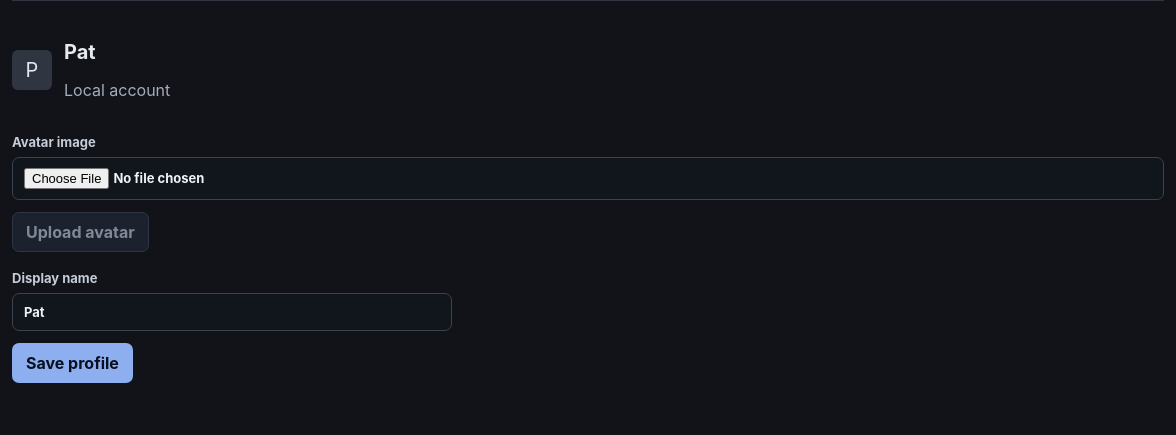
it: shows a rejected save without discarding the draft
This screenshot has width=1176, height=435.
Replace the text in the field labelled "Display name" with "Pending name" at (232, 312), box [12,293,452,331]
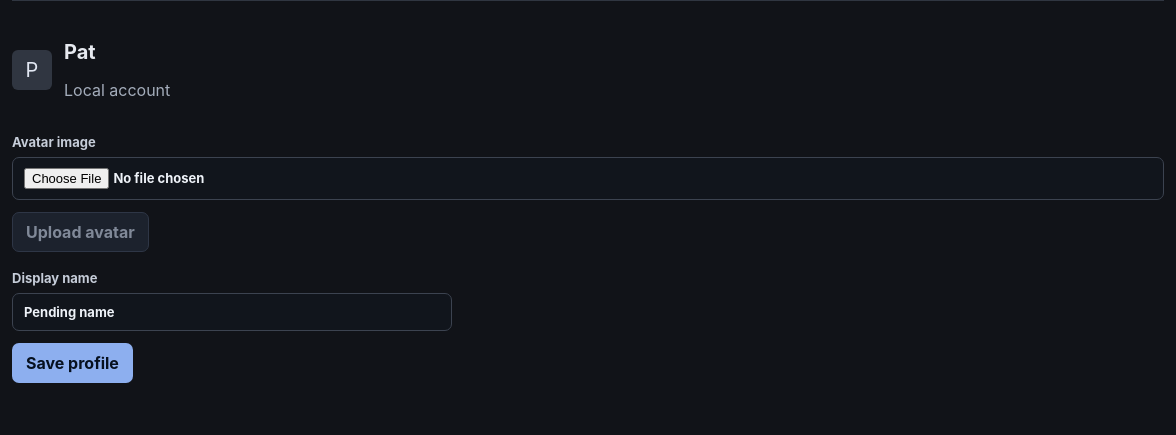
Click the button "Save profile" at (72, 363), box [12,343,133,383]
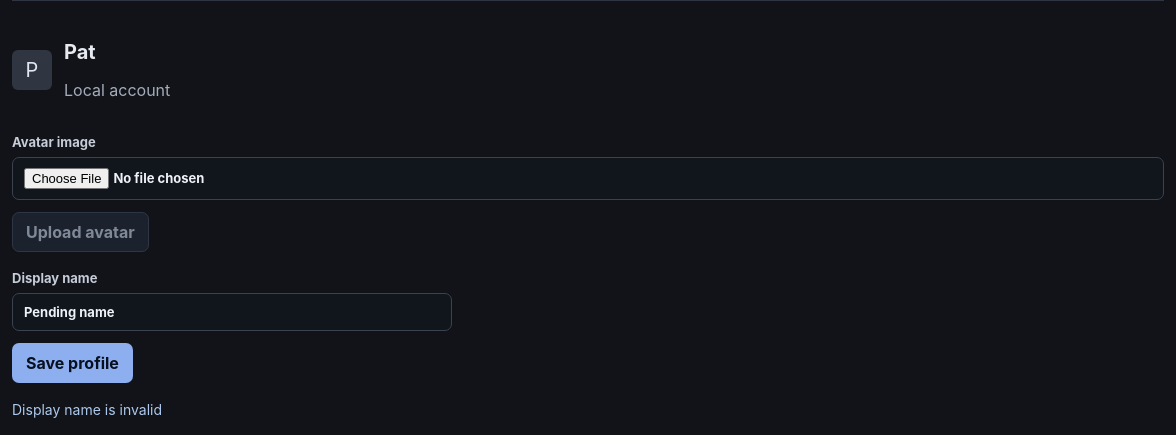
Check: the message reads "Display name is invalid", box [12,401,162,418]
